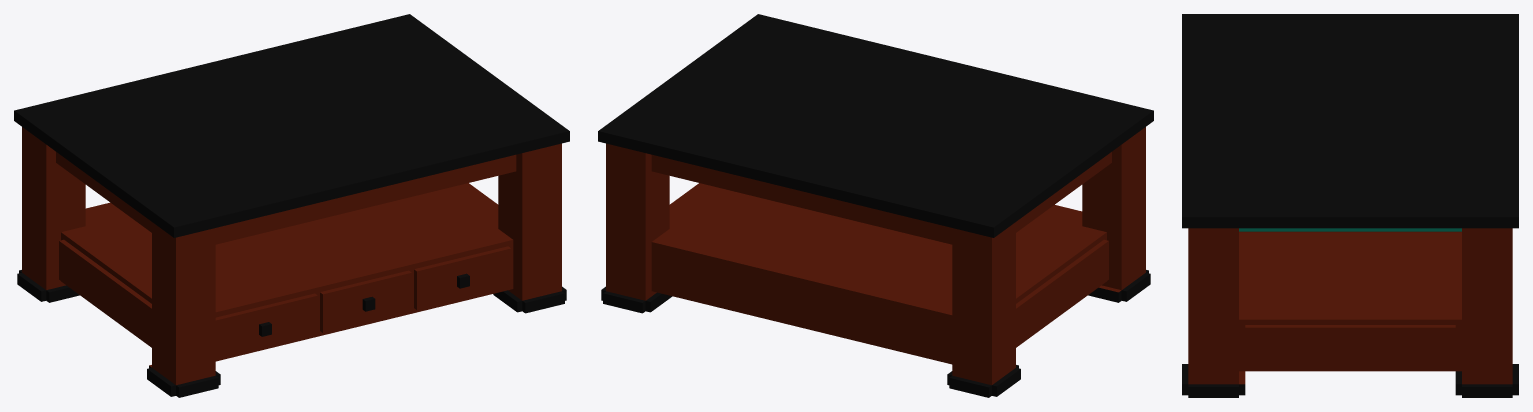
File: Complimentary coffee table.fbx
3 views of the same model, side by side, from view 1: azimuth 30°, elevation 25°; view 2: azimuth 150°, elevation 25°; view 3: azimuth 270°, elevation 25° (orthographic). The views are drawn at different scales.
Parts seen in each view (by area): view 1: Coffee Table; view 2: Coffee Table; view 3: Coffee Table.
Boxes of the visible parts, left/top/right/bottom form: Coffee Table: left=14, top=14, right=569, bottom=397; Coffee Table: left=598, top=14, right=1153, bottom=397; Coffee Table: left=1182, top=14, right=1518, bottom=397.
Bounding box in the file's own units: 1.11 × 0.4579 × 0.7741.
